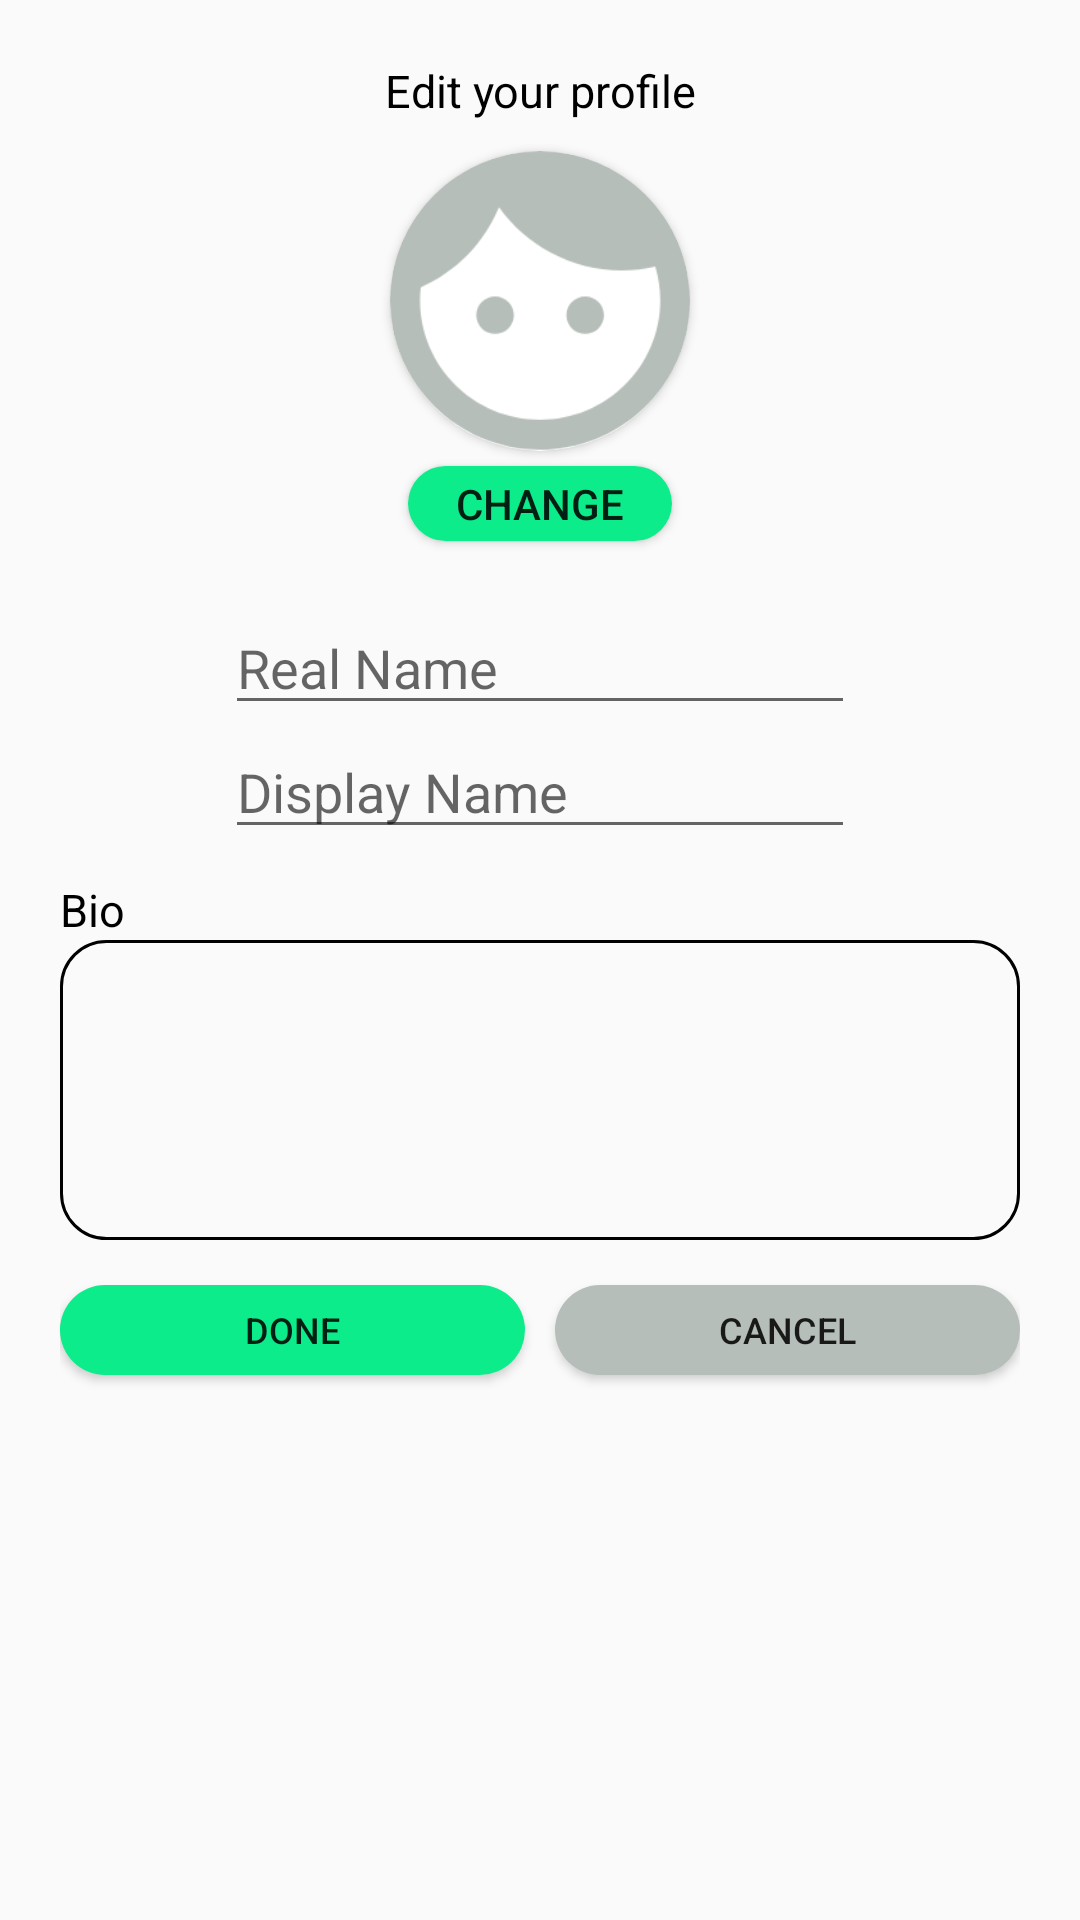

Icon click points for this 1080 × 1920 phone screenshot, format (x,y):
User profile picture: (540,301)
